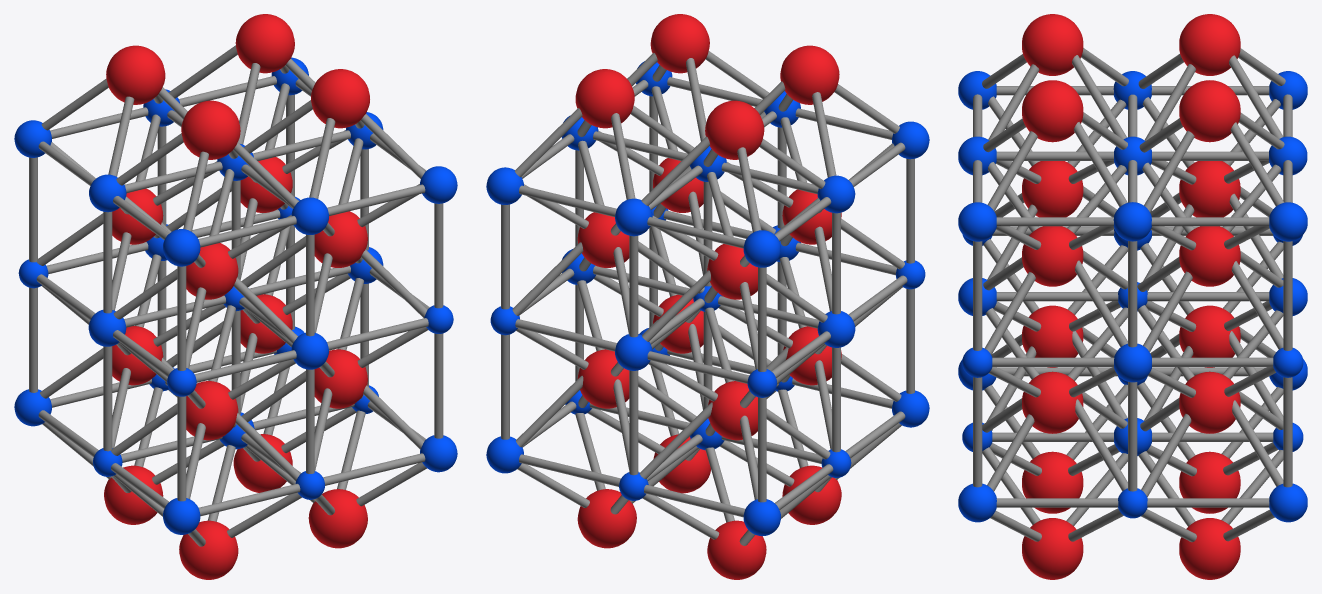
Rendered from PbO.fbx.
3 renders of one model, left to right at view 1: azimuth 30°, elevation 25°; view 2: azimuth 150°, elevation 25°; view 3: azimuth 270°, elevation 25°, orthographic. The views are drawn at different scales.
Parts seen in each view (by area): view 1: Цилиндр_Node (×77), Сферы_Node (×31); view 2: Цилиндр_Node (×76), Сферы_Node (×33); view 3: Цилиндр_Node (×95), Сферы_Node (×35).
Boxes of the visible parts, x1=… form: Цилиндр_Node (×77): x1=29, y1=45, x2=443, y2=537; Сферы_Node (×31): x1=14, y1=14, x2=457, y2=579; Цилиндр_Node (×76): x1=501, y1=51, x2=914, y2=539; Сферы_Node (×33): x1=486, y1=14, x2=929, y2=579; Цилиндр_Node (×95): x1=973, y1=48, x2=1292, y2=542; Сферы_Node (×35): x1=958, y1=14, x2=1307, y2=579.
Bounding box in the file's own units: 4.44 × 6.93 × 4.44.
56 materials, 2 textured.
